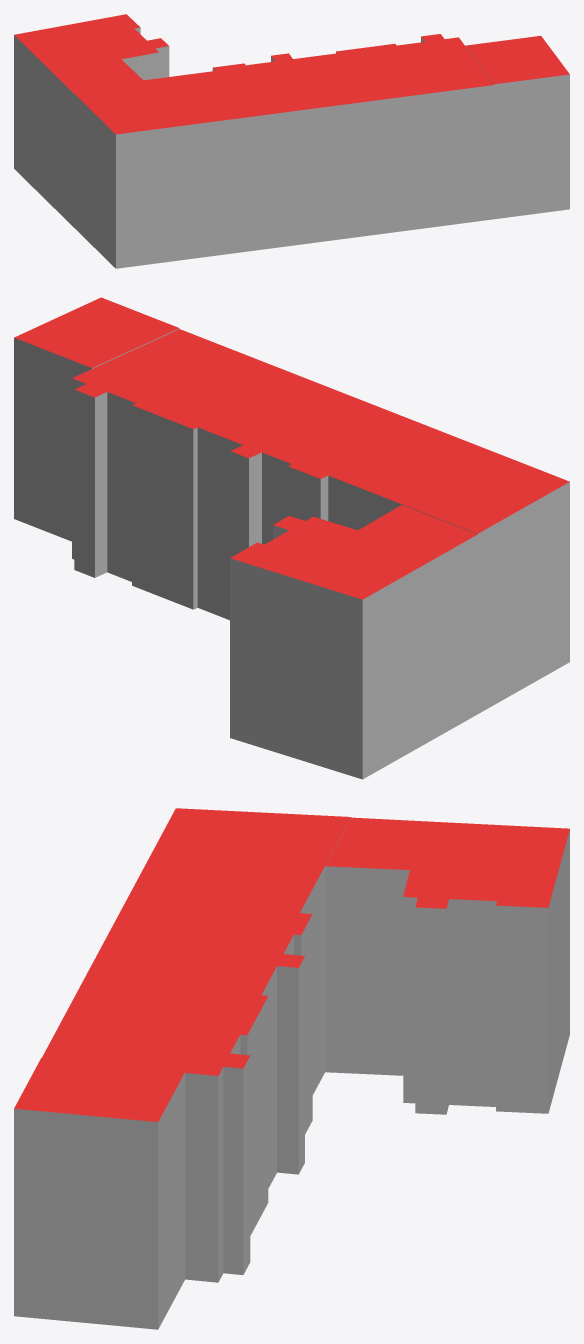
Rendered from DEBE3D04YY50000Dxi.dae.
3 renders of one model, top to bottom at view 1: azimuth 30°, elevation 25°; view 2: azimuth 150°, elevation 25°; view 3: azimuth 270°, elevation 25°, orthographic. The views are drawn at different scales.
Bounding box in the file's own units: 51.25 × 38.24 × 15.75.
